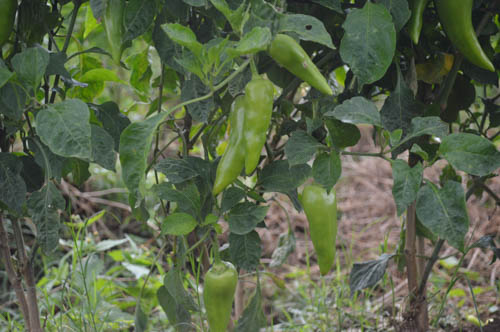ChiliPepper: (271, 36, 331, 101), (441, 2, 496, 72), (212, 95, 247, 197), (301, 187, 339, 274), (243, 80, 273, 175), (202, 265, 235, 331)
